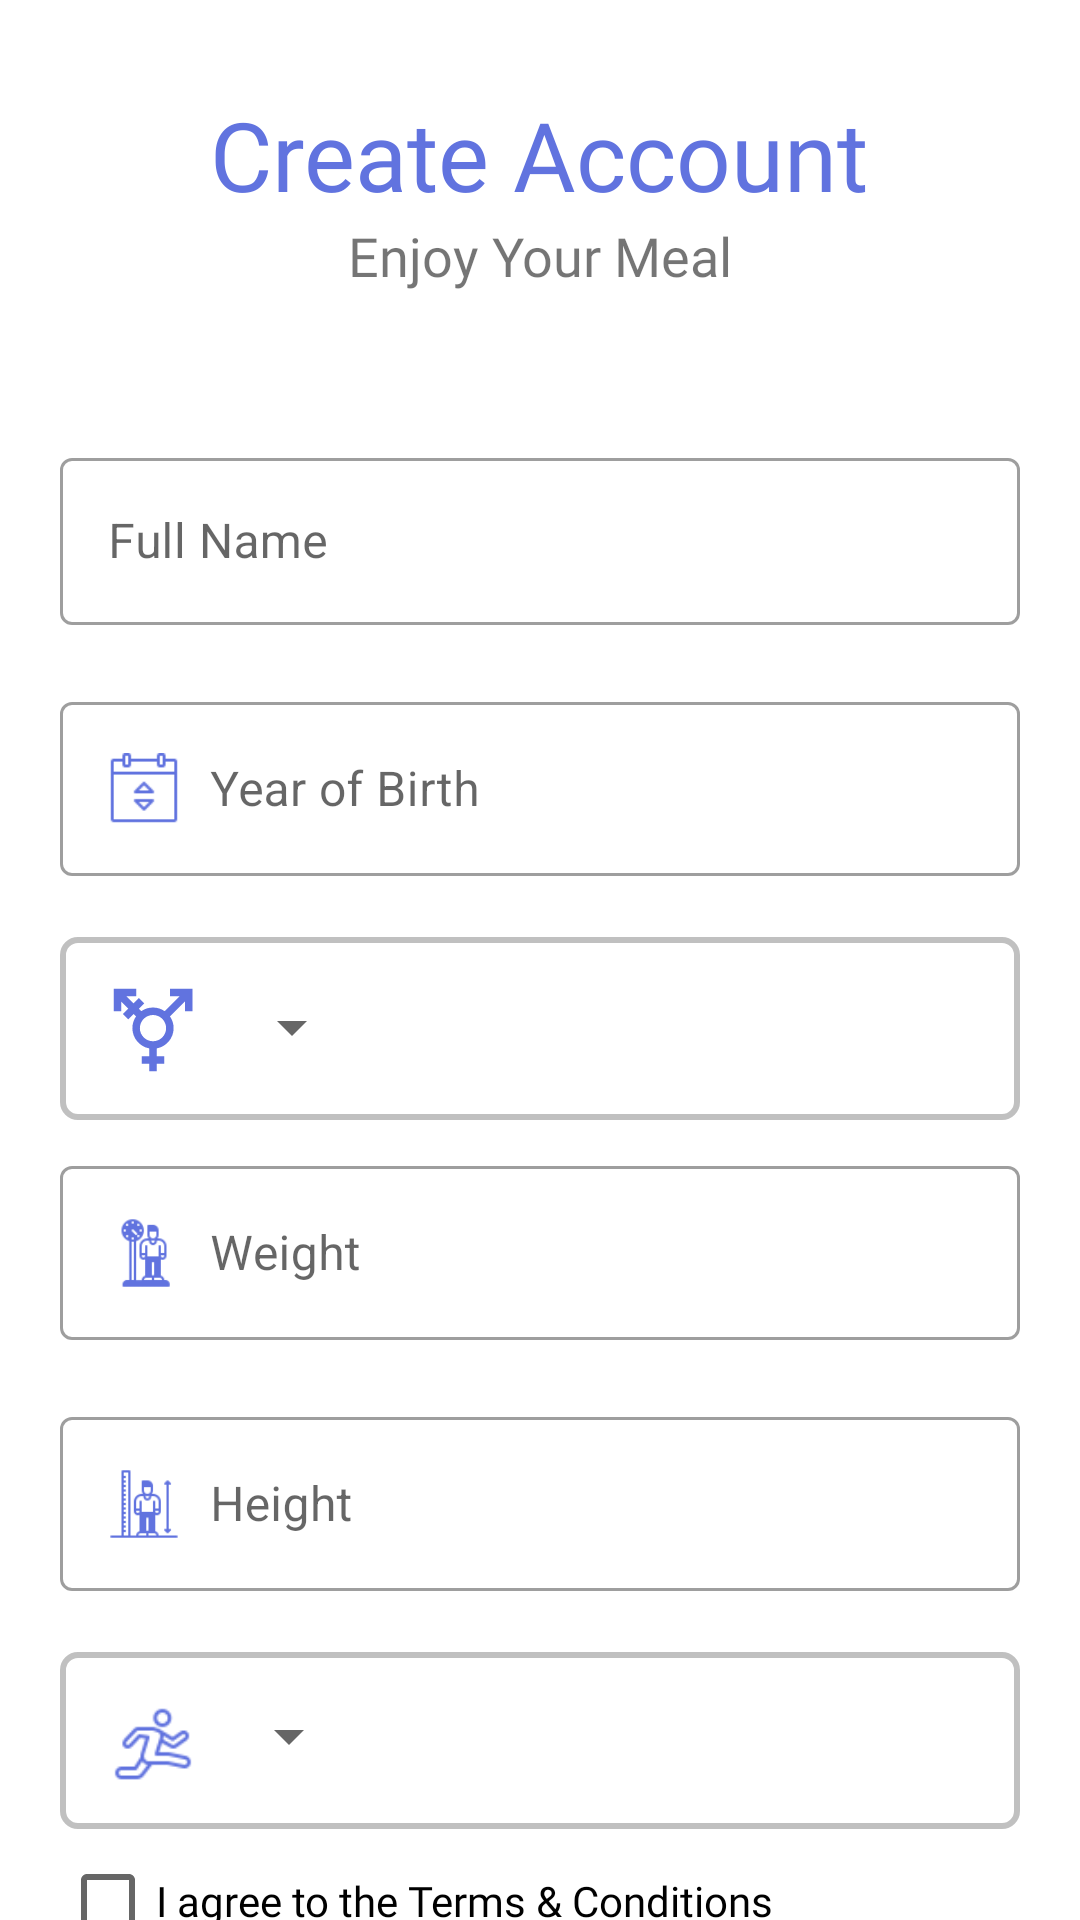

Named icons in this screenshot (1080w x 1920h) and their centers, (x,y):
Activity Level: (153,1744)
Gender: (153,1030)
